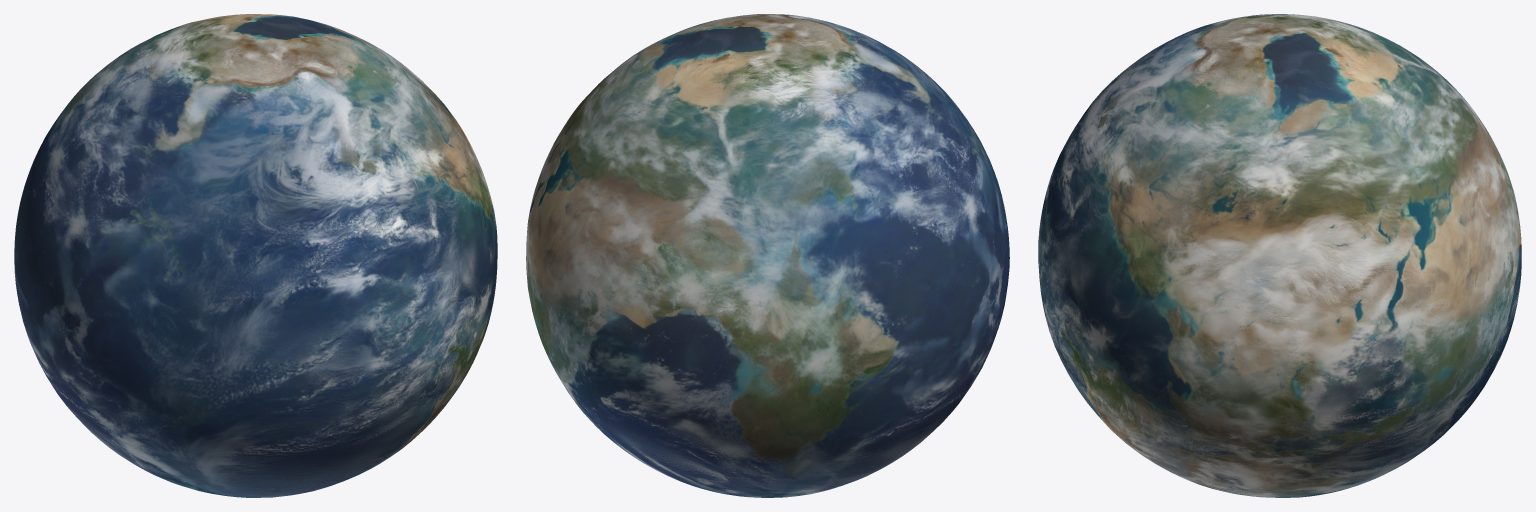
File: Earth_from_Space_1025081321_texture.glb
3 views of the same model, side by side, from view 1: azimuth 30°, elevation 25°; view 2: azimuth 150°, elevation 25°; view 3: azimuth 270°, elevation 25° (orthographic).
Size of the model in its own units: 2 by 2 by 2.
Materials: 1 (1 with a texture image).
